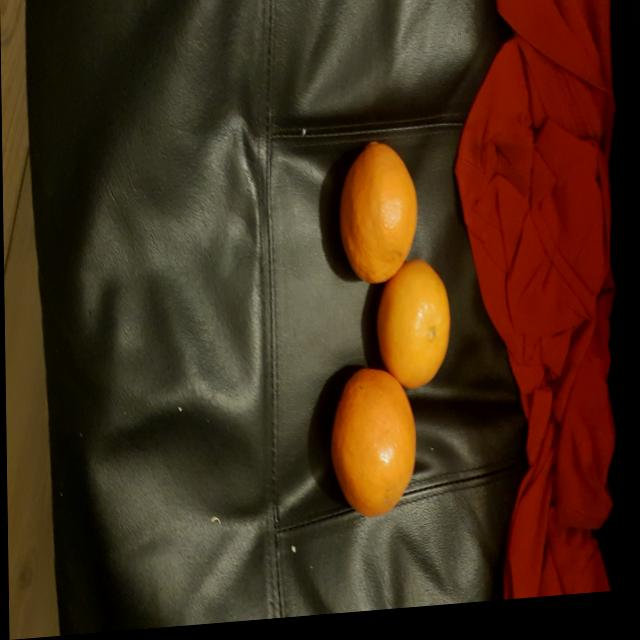Orange: (328, 375, 416, 525), (337, 148, 417, 291), (374, 267, 450, 397)
